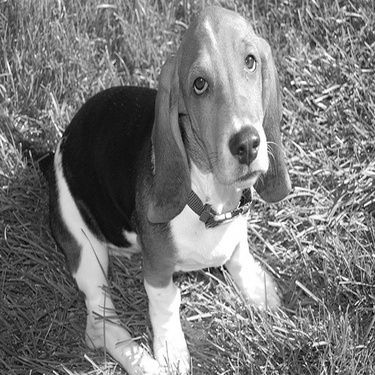dog: (5, 6, 297, 373)
